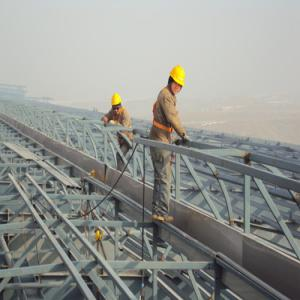yellow: (169, 65, 187, 96), (112, 95, 123, 115)
